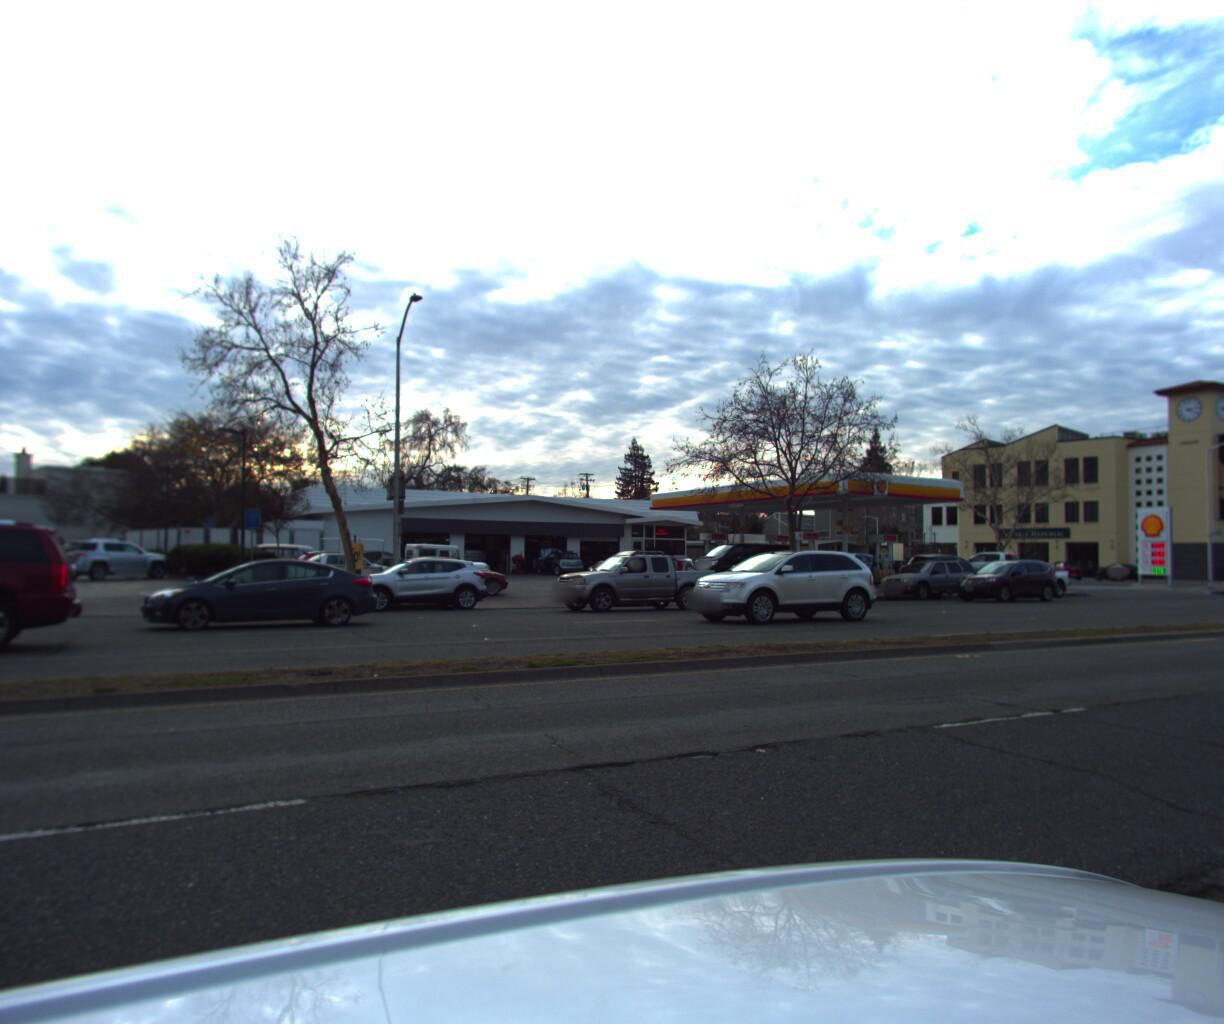car: (130, 556, 384, 635), (676, 547, 886, 626), (0, 509, 87, 674), (330, 551, 497, 618), (556, 547, 728, 610), (374, 551, 518, 599), (245, 536, 359, 584), (397, 540, 499, 591), (871, 555, 984, 601), (950, 556, 1067, 599), (284, 545, 402, 587), (683, 540, 803, 581), (964, 555, 1072, 598), (579, 556, 667, 608), (290, 547, 394, 585), (938, 548, 1050, 583), (895, 550, 991, 586), (795, 548, 885, 582), (517, 544, 587, 574), (433, 537, 491, 565), (1086, 557, 1144, 579), (1034, 557, 1081, 577), (1221, 551, 1224, 592)
